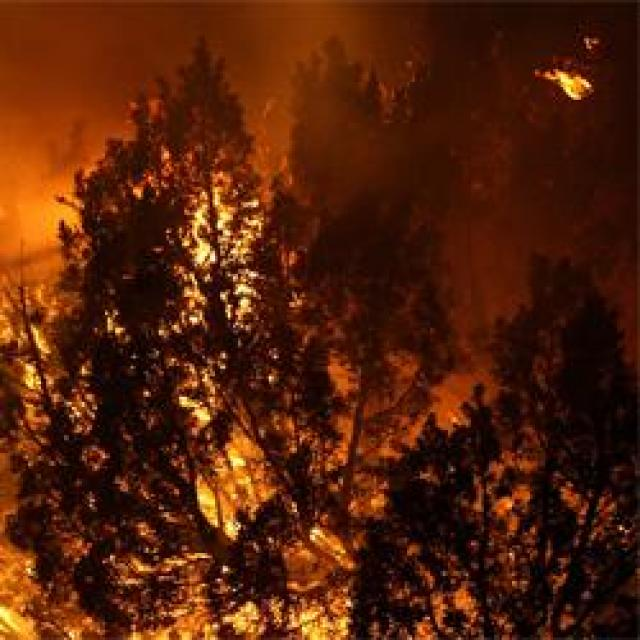fire: (178, 399, 360, 640), (133, 153, 286, 336)
